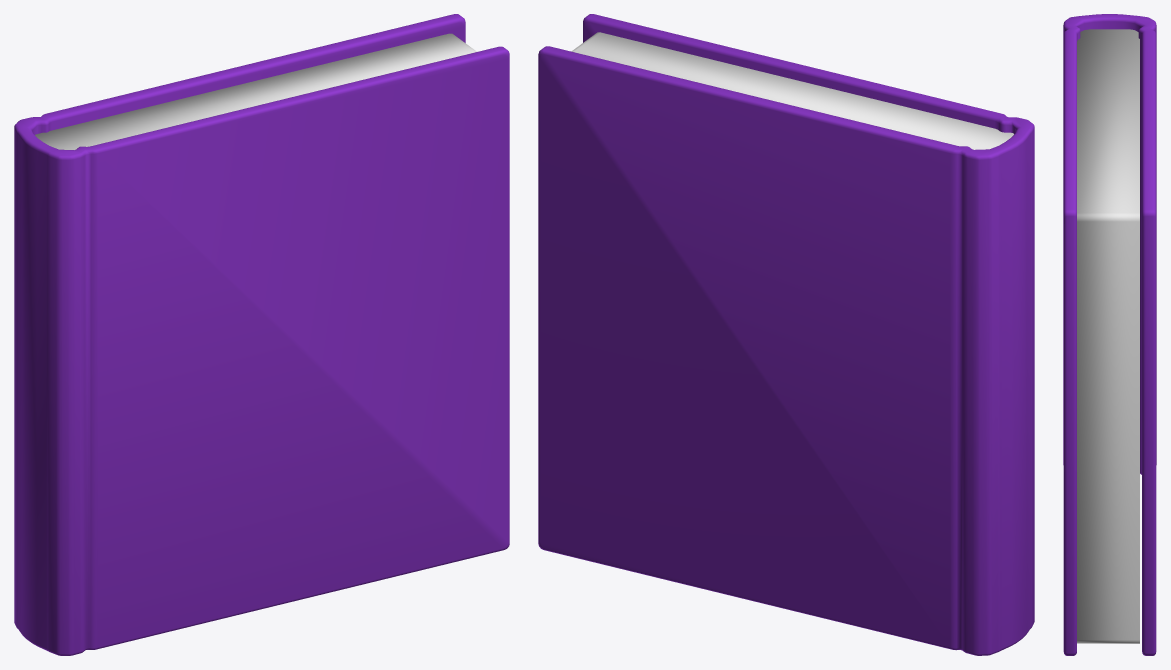
Rendered from book_purple.fbx.
3 renders of one model, left to right at view 1: azimuth 30°, elevation 25°; view 2: azimuth 150°, elevation 25°; view 3: azimuth 270°, elevation 25°, orthographic. The views are drawn at different scales.
Visible parts, largest first — view 1: Cube.031; view 2: Cube.031; view 3: Cube.031.
Part boxes in pixels (<box>): Cube.031: <box>14,14,509,655</box>; Cube.031: <box>538,14,1034,655</box>; Cube.031: <box>1063,14,1156,655</box>.
Size of the model in its own units: 313 by 327 by 61.89.
